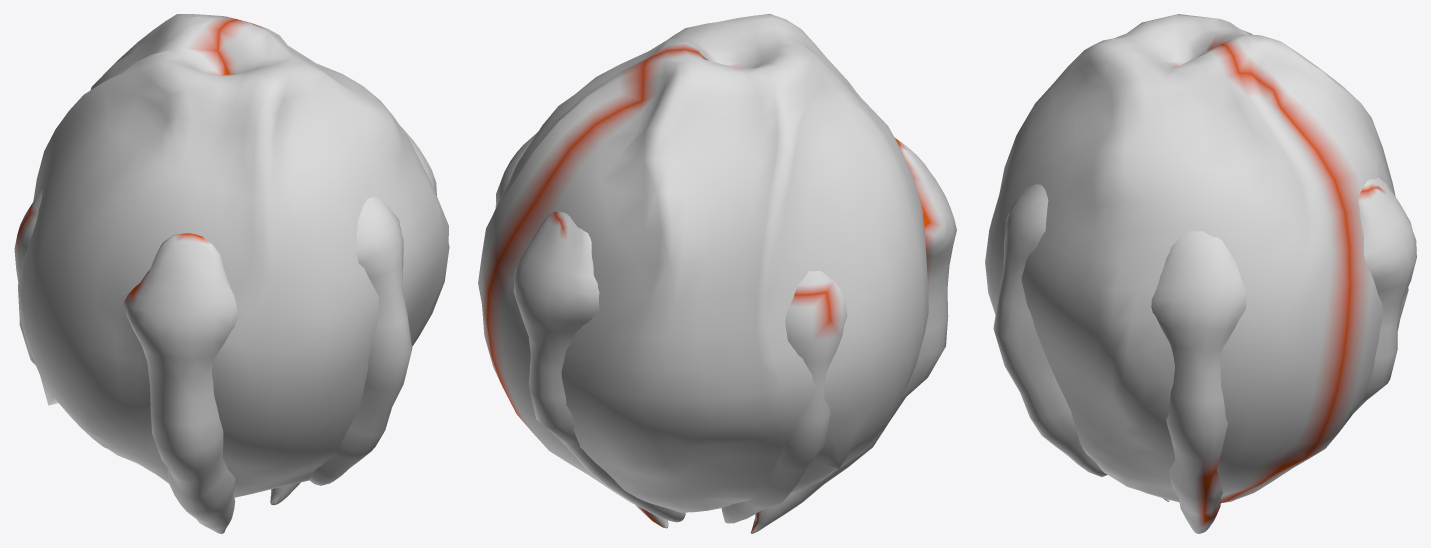
File: Gas_maybe_Maybe.fbx
3 renders of one model, left to right at view 1: azimuth 30°, elevation 25°; view 2: azimuth 150°, elevation 25°; view 3: azimuth 270°, elevation 25°, orthographic. The views are drawn at different scales.
Visible parts, largest first — view 1: polySurface97_SeamsColor; view 2: polySurface97_SeamsColor; view 3: polySurface97_SeamsColor.
Part boxes in pixels (x1,y1,x2,y2): polySurface97_SeamsColor: [14, 14, 449, 533]; polySurface97_SeamsColor: [478, 14, 956, 533]; polySurface97_SeamsColor: [985, 14, 1416, 533].
Size of the model in its own units: 73.71 by 87.84 by 72.61.
